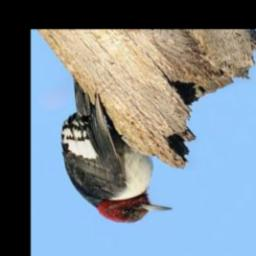Woodpecker: (59, 80, 174, 224)
